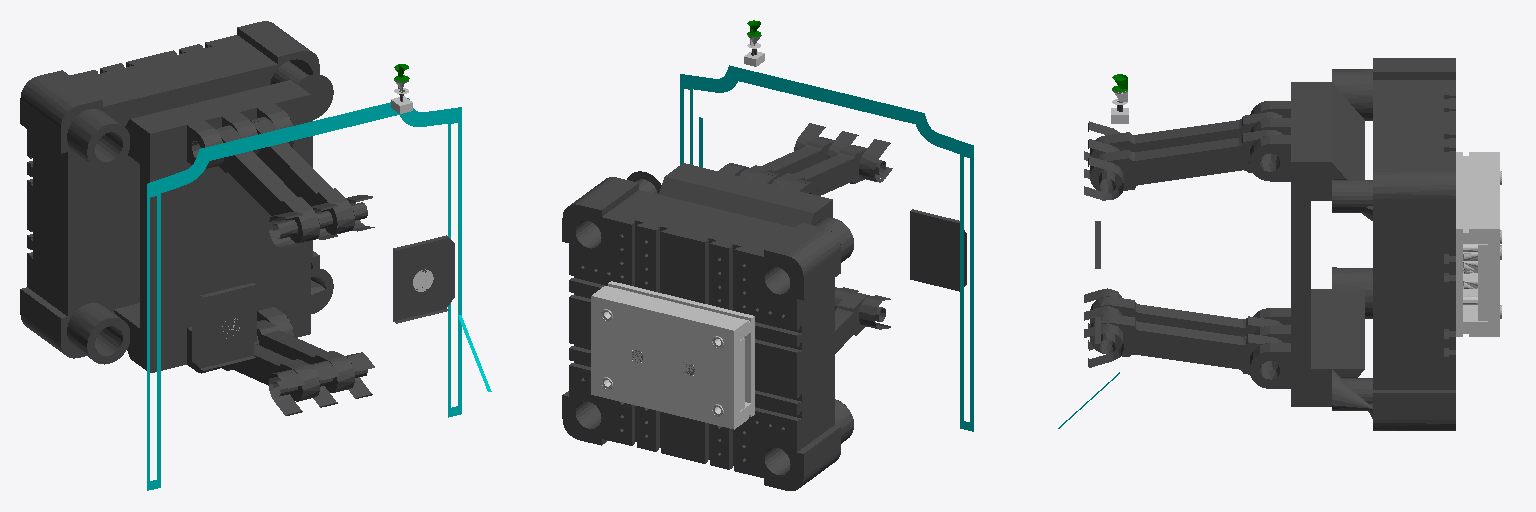
robot.urdf — injection_molder:
<?xml version="1.0"?>
<robot name="injection_molder">
  <!-- Generated by Docs/factory_machines/bl_export_urdf.py from urdf_spec_imm.json. Masses and inertias are nominal box estimates; joint limits follow the FactoryDemo prefab animation. -->
  <link name="base_link">
    <inertial>
      <origin xyz="-4.48227e-05 -1.19209e-07 1.21868" rpy="0 0 0" />
      <mass value="4500" />
      <inertia ixx="19991.8" ixy="0" ixz="0" iyy="2757.37" iyz="0" izz="18293.7" />
    </inertial>
    <visual>
      <origin xyz="0 0 0" rpy="0 0 0" />
      <geometry>
        <mesh filename="package://factory_machines_description/meshes/injection_molder/visual/base_link.dae" />
      </geometry>
    </visual>
    <collision>
      <origin xyz="0 0 0" rpy="0 0 0" />
      <geometry>
        <mesh filename="package://factory_machines_description/meshes/injection_molder/collision/base_link.stl" />
      </geometry>
    </collision>
  </link>
  <link name="moving_platen">
    <inertial>
      <origin xyz="0.0032469 -0.0514408 0.000522166" rpy="0 0 0" />
      <mass value="600" />
      <inertia ixx="53.1904" ixy="0" ixz="0" iyy="73.7064" iyz="0" izz="58.3384" />
    </inertial>
    <visual>
      <origin xyz="0 0 0" rpy="0 0 0" />
      <geometry>
        <mesh filename="package://factory_machines_description/meshes/injection_molder/visual/moving_platen.dae" />
      </geometry>
    </visual>
    <collision>
      <origin xyz="0 0 0" rpy="0 0 0" />
      <geometry>
        <mesh filename="package://factory_machines_description/meshes/injection_molder/collision/moving_platen.stl" />
      </geometry>
    </collision>
  </link>
  <link name="toggle_links">
    <inertial>
      <origin xyz="0.00324696 -0.0139675 0.0692443" rpy="0 0 0" />
      <mass value="150" />
      <inertia ixx="26.4883" ixy="0" ixz="0" iyy="33.1071" iyz="0" izz="22.5411" />
    </inertial>
    <visual>
      <origin xyz="0 0 0" rpy="0 0 0" />
      <geometry>
        <mesh filename="package://factory_machines_description/meshes/injection_molder/visual/toggle_links.dae" />
      </geometry>
    </visual>
    <collision>
      <origin xyz="0 0 0" rpy="0 0 0" />
      <geometry>
        <mesh filename="package://factory_machines_description/meshes/injection_molder/collision/toggle_links.stl" />
      </geometry>
    </collision>
  </link>
  <joint name="moving_platen_slide" type="prismatic">
    <origin xyz="-0.00939691 -0.844328 1.14008" rpy="0 0 0" />
    <parent link="base_link" />
    <child link="moving_platen" />
    <axis xyz="0 -1 0" />
    <limit effort="20000" velocity="0.15" lower="0" upper="0.27" />
  </joint>
  <joint name="toggle_links_slide" type="prismatic">
    <origin xyz="-0.00939691 -1.46833 1.14008" rpy="0 0 0" />
    <parent link="base_link" />
    <child link="toggle_links" />
    <axis xyz="0 -1 0" />
    <limit effort="20000" velocity="0.075" lower="0" upper="0.135" />
    <mimic joint="moving_platen_slide" multiplier="0.5" offset="0" />
  </joint>
</robot>

--- Render facts (derived) ---
Views: 3 orthographic renders of the robot side by side, from view 1: azimuth 30°, elevation 25°; view 2: azimuth 150°, elevation 25°; view 3: azimuth 270°, elevation 25°.
Robot: injection_molder — 3 links, 2 joints (2 prismatic); root link base_link; default pose: all joints at 0.
Links seen in each view (by area): view 1: toggle_links, moving_platen; view 2: moving_platen, toggle_links; view 3: moving_platen, toggle_links.
Link boxes in pixels (x1,y1,x2,y2): toggle_links: (131, 64, 491, 490); moving_platen: (20, 21, 333, 370); moving_platen: (562, 171, 853, 490); toggle_links: (665, 20, 973, 431); moving_platen: (1291, 58, 1501, 430); toggle_links: (1058, 74, 1331, 428).
Size in the robot's own frame: 1.08 by 1.29 by 1.22 metres.
Meshes: 3 distinct files referenced, 2 mesh visuals loaded (2 Collada DAE); not drawn: 1 (reference not matched to a file when rendering).
